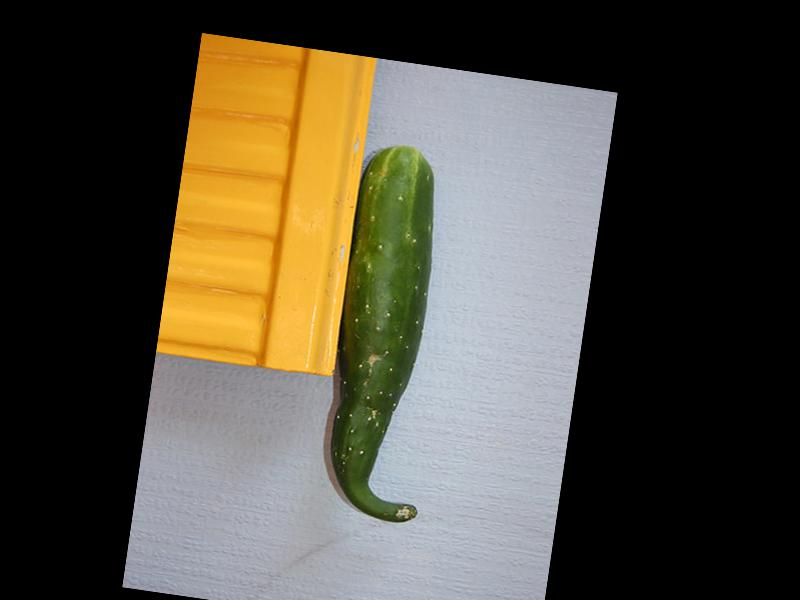Cucumber: (312, 142, 469, 526)
